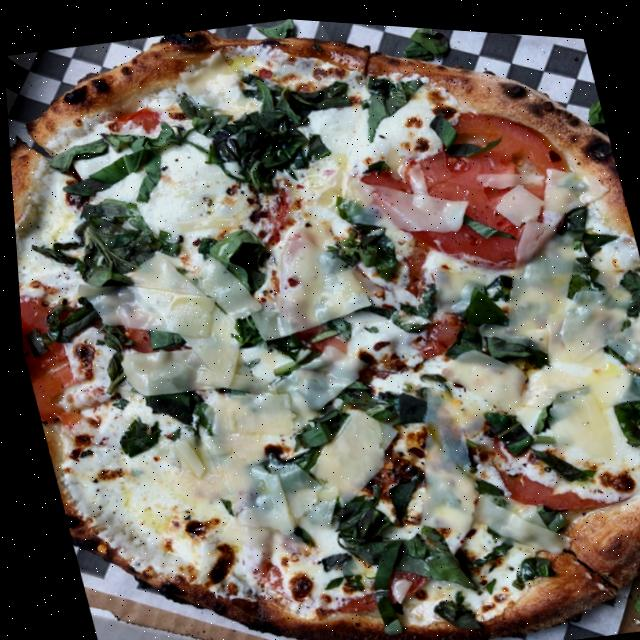pizza: (0, 0, 640, 640)
tomatoes: (344, 81, 589, 289), (486, 431, 616, 521), (15, 283, 92, 431), (407, 298, 473, 352), (111, 99, 186, 142)
